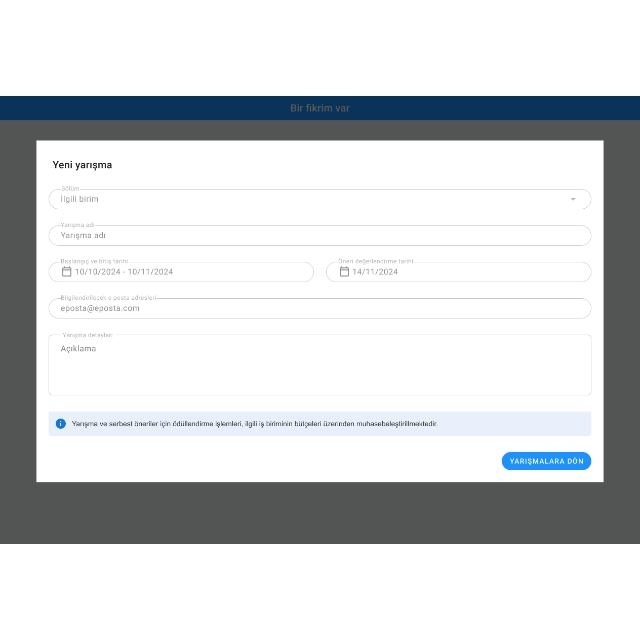QLabel: (70, 419, 438, 428), (50, 160, 112, 172), (508, 458, 584, 467)
VAlert: (47, 411, 591, 435)
VBtn: (502, 452, 592, 472)
VCombobox: (49, 186, 592, 210)
VDialog: (38, 140, 604, 483)
VIcon: (55, 419, 65, 429)
VInlineDatepicker: (326, 259, 592, 283), (49, 259, 314, 283)
VTextField: (48, 222, 592, 248), (49, 294, 592, 320)
VTextarea: (49, 332, 592, 396)
